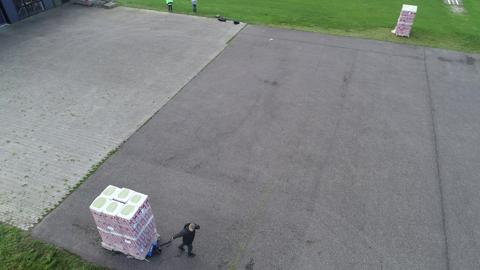RockwoolPallet: (395, 3, 419, 38)
